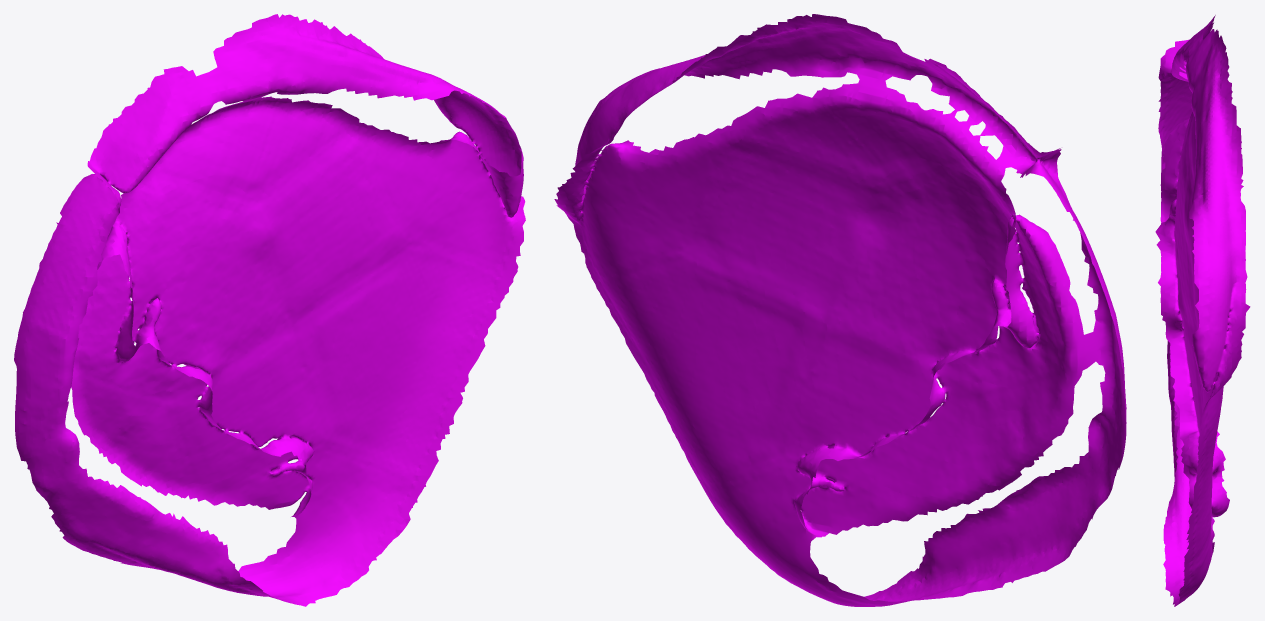
3 views of the same model, side by side, from view 1: azimuth 30°, elevation 25°; view 2: azimuth 150°, elevation 25°; view 3: azimuth 270°, elevation 25° (orthographic). The views are drawn at different scales.
Parts seen in each view (by area): view 1: Mesh_0; view 2: Mesh_0; view 3: Mesh_0.
Boxes of the visible parts, left/top/right/bottom form: Mesh_0: left=14, top=14, right=525, bottom=606; Mesh_0: left=554, top=14, right=1126, bottom=606; Mesh_0: left=1155, top=15, right=1250, bottom=606.
Bounding box in the file's own units: 497 × 521 × 82.59.
